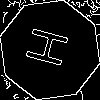H: (25, 25, 78, 72)
